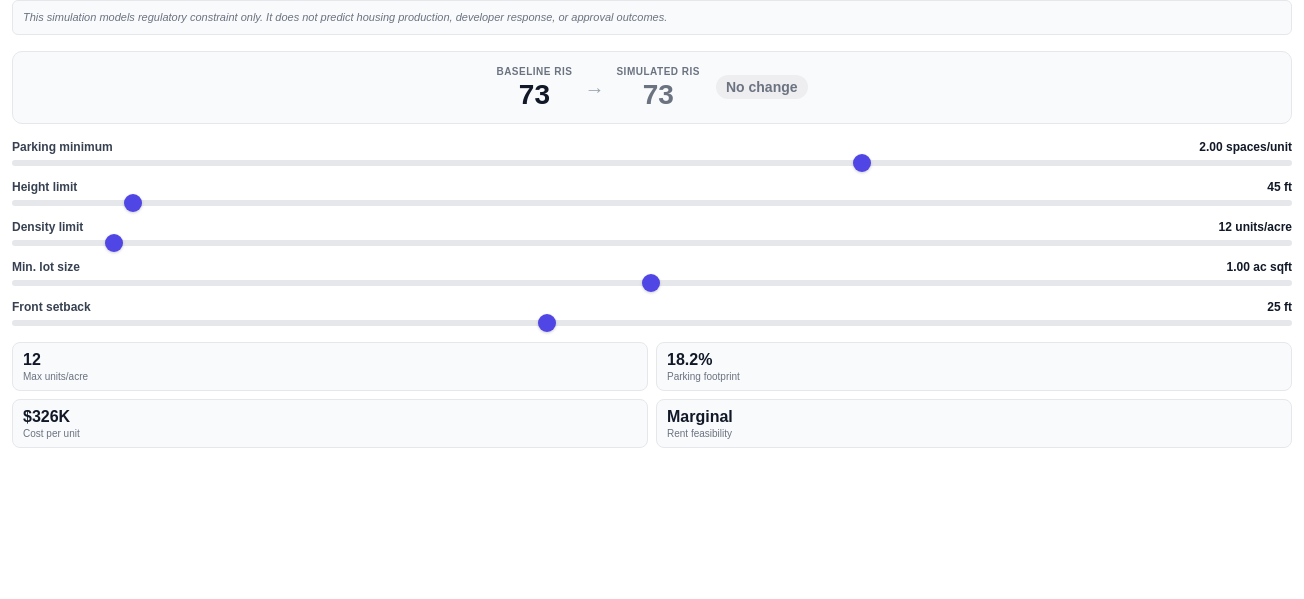
Test: WhatIfPanel › updates simulated RIS when parking slider is changed
Reduce parking from 2.0 to 0 — should lower the RIS (less restrictive)
Set the slider named "Parking minimum slider" to "0" at (20, 162), box [12,160,1292,166]
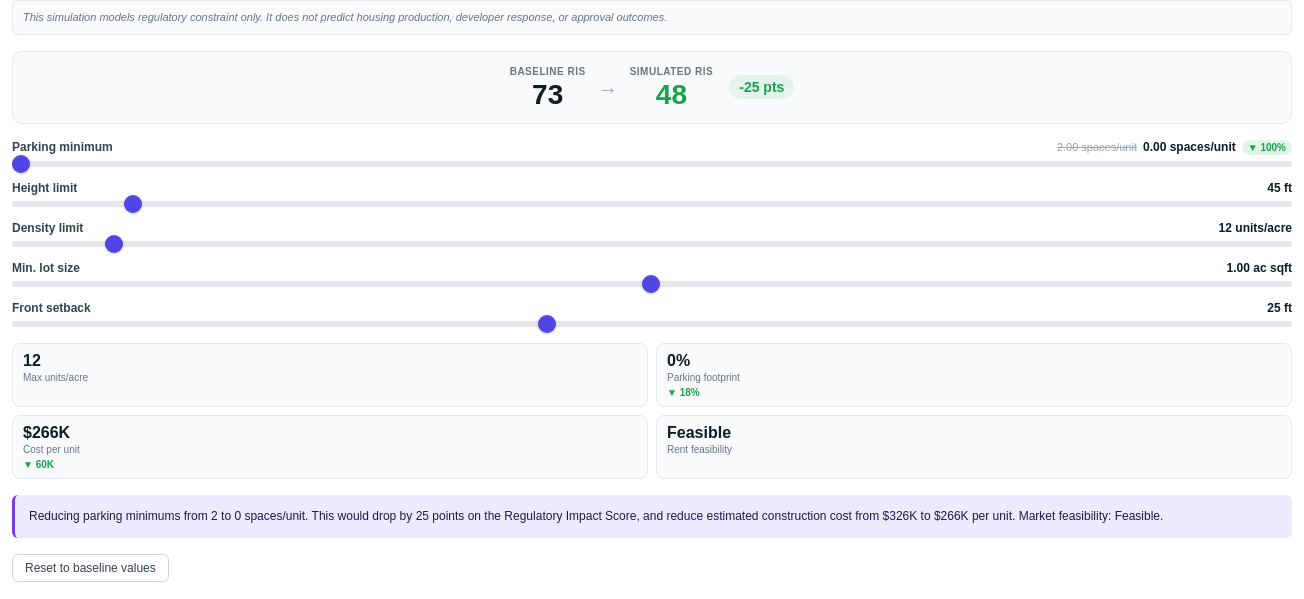
Check: the text "48" is shown, box [656,80,687,108]
Check: the text "73" is gone
